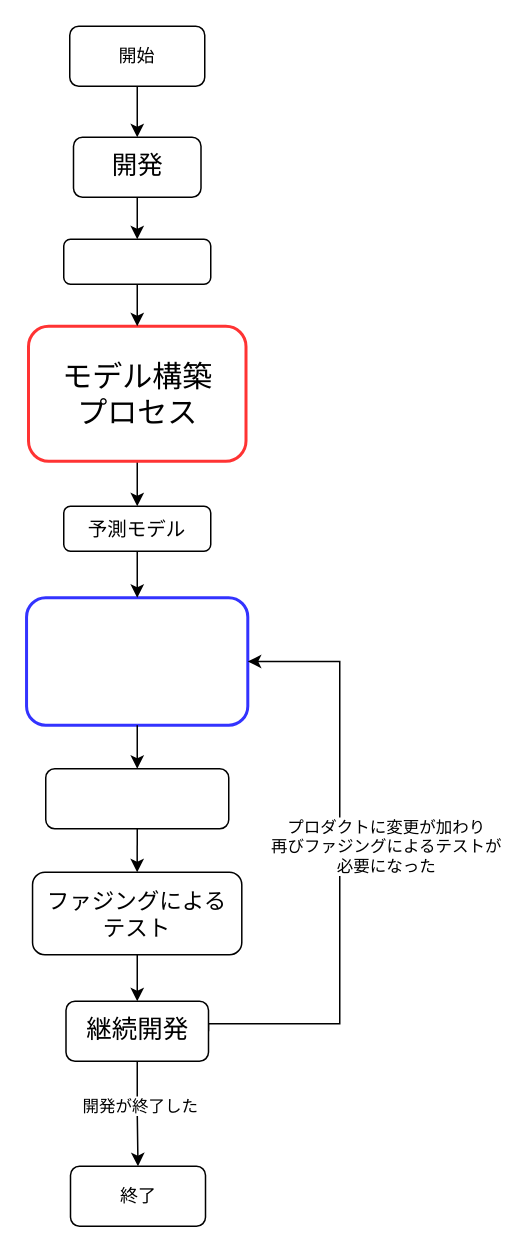
The diagram is 528 pixels wide and 1253 high, and some of its shapes have lost their labels. Each missing label, with the box of its shape:
不具合発見する 確率が高いパラメータ: (44, 767, 229, 829)
適用プロセス: (24, 596, 249, 726)
開発初期段階の テスト対象ゲーム: (62, 238, 211, 284)
